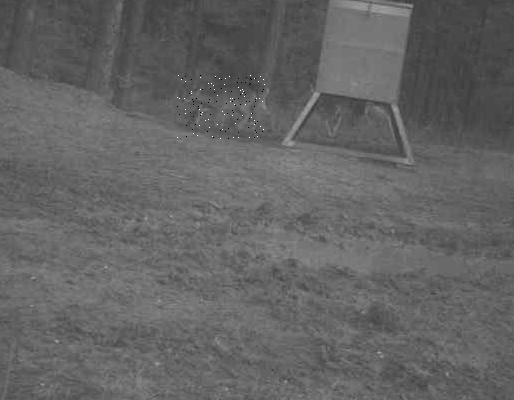Deer: (177, 75, 265, 139)
